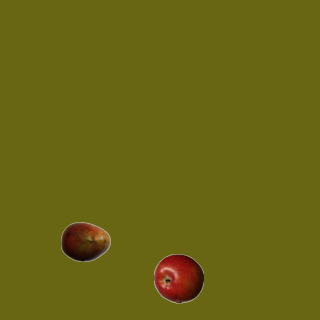Apple Braeburn: (153, 253, 203, 303)
Mango Red: (60, 216, 110, 266)
